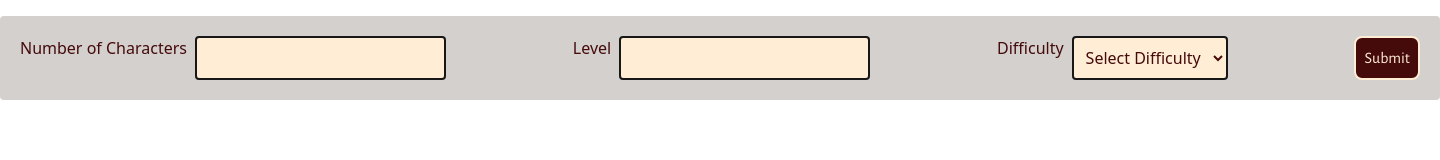
Scenario: EncounterForm submission › Form cannot be submitted with invalid character number
Type "500" into the number field labelled "Number of Characters" at (320, 58), box left=195, top=36, right=446, bottom=80
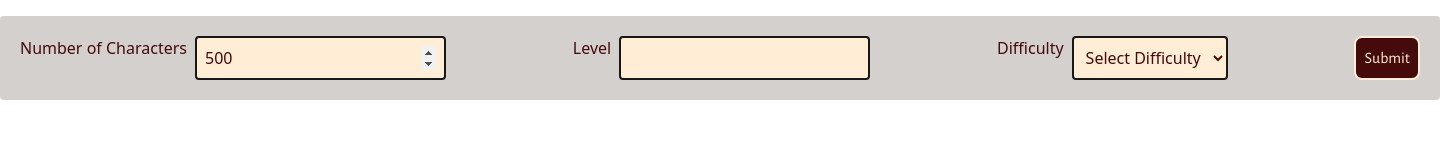
Type "10" into the number field labelled "Level" at (745, 58), box left=619, top=36, right=870, bottom=80
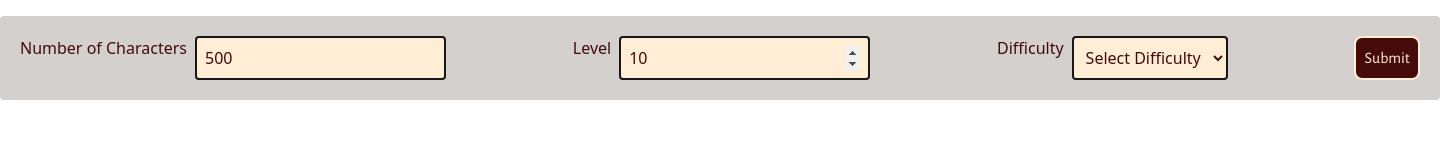
Select "Medium" in the dropdown at (1150, 58), box left=1072, top=36, right=1228, bottom=80
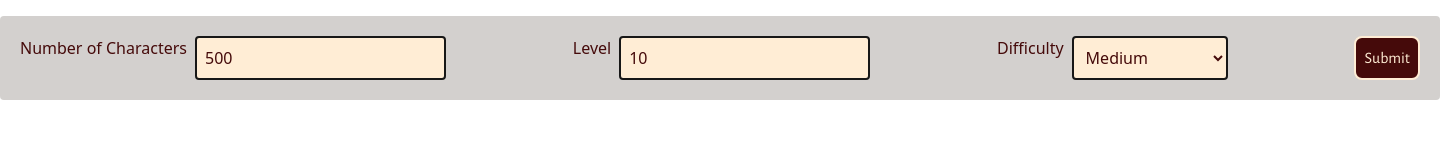
Click the button "Submit" at (1387, 58), box left=1354, top=36, right=1420, bottom=80
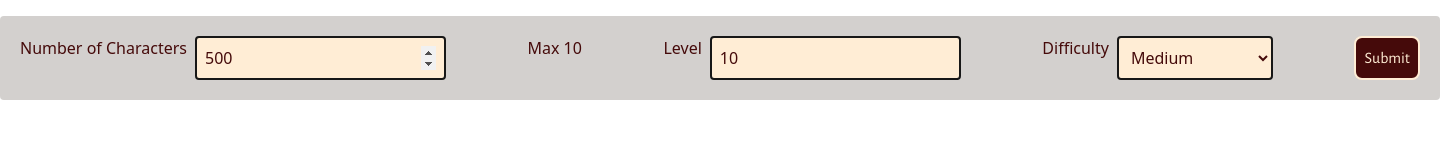
Expected: the text "Max 10" is shown, left=528, top=37, right=582, bottom=59
